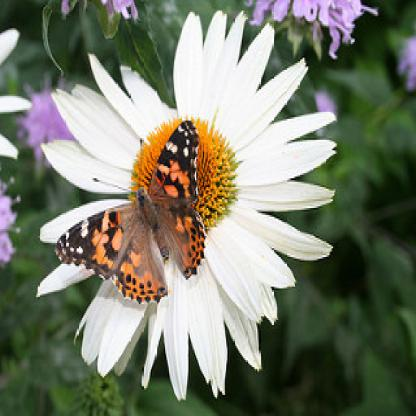ASTER: (47, 25, 338, 396)
